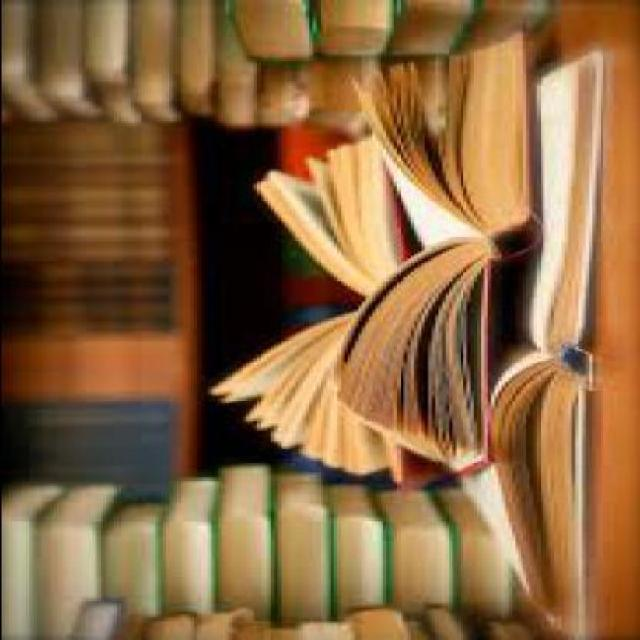PAPER: (325, 26, 538, 474), (458, 49, 605, 636), (202, 130, 402, 487), (28, 479, 115, 638), (427, 484, 510, 614), (367, 487, 455, 607), (1, 478, 58, 638), (207, 461, 265, 612), (318, 481, 382, 617), (30, 0, 101, 117), (269, 472, 322, 623), (81, 0, 139, 123), (161, 472, 210, 612), (1, 0, 57, 122), (126, 1, 182, 121), (95, 498, 150, 614), (213, 0, 259, 126), (217, 0, 309, 62), (172, 0, 220, 114), (443, 0, 546, 52), (308, 0, 392, 57), (381, 0, 473, 52), (255, 56, 308, 129), (308, 56, 367, 112), (343, 605, 402, 638), (66, 596, 112, 638), (146, 610, 189, 638), (294, 616, 343, 638), (193, 610, 227, 638), (231, 607, 258, 638), (402, 614, 423, 638), (122, 612, 140, 637), (262, 625, 293, 638)
